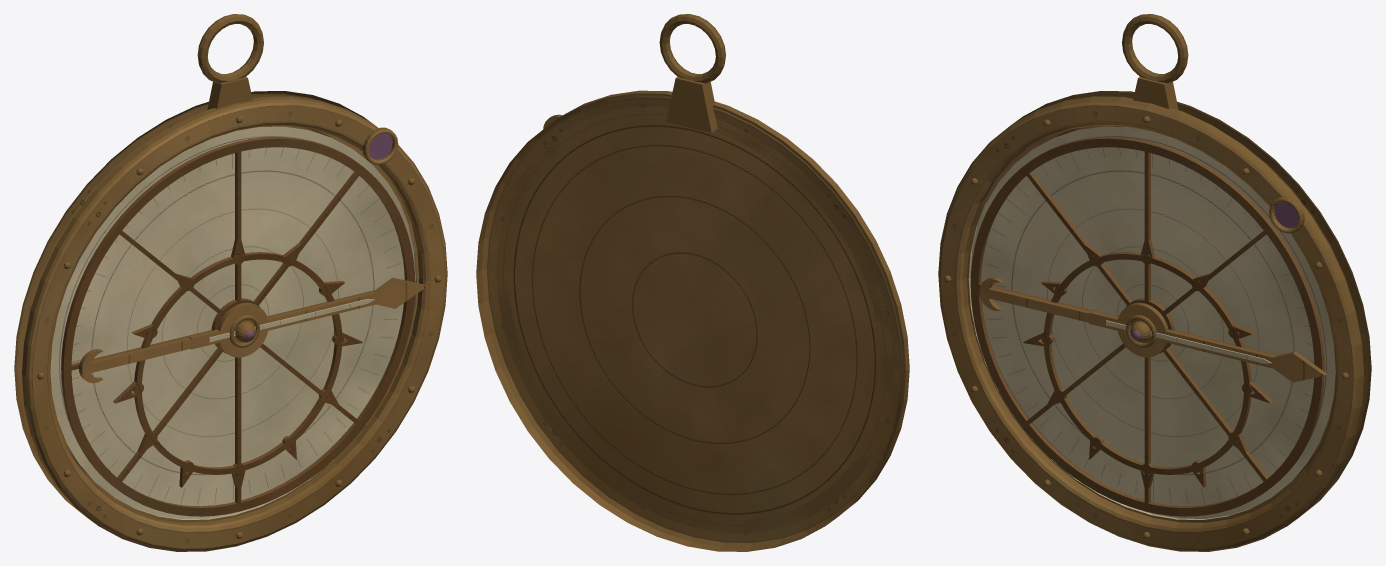
File: astrolabe-lite-v2.glb
3 views of the same model, side by side, from view 1: azimuth 30°, elevation 25°; view 2: azimuth 150°, elevation 25°; view 3: azimuth 330°, elevation 25° (orthographic).
Parts seen in each view (by area): view 1: calendar_disc, outer_rim, rete, body, time_pointer_geom, suspension_ring, time_pointer_inlay, center_cap_geom, moon_seat_geom; view 2: body, outer_rim, suspension_ring; view 3: calendar_disc, outer_rim, rete, body, time_pointer_geom, suspension_ring, time_pointer_inlay, center_cap_geom, moon_seat_geom.
Part boxes in pixels (x1=…): calendar_disc: x1=50, y1=126, x2=417, y2=519; outer_rim: x1=22, y1=96, x2=447, y2=551; rete: x1=61, y1=137, x2=415, y2=516; body: x1=14, y1=91, x2=419, y2=522; time_pointer_geom: x1=79, y1=277, x2=426, y2=383; suspension_ring: x1=197, y1=14, x2=263, y2=109; time_pointer_inlay: x1=209, y1=299, x2=374, y2=342; center_cap_geom: x1=229, y1=315, x2=259, y2=347; moon_seat_geom: x1=362, y1=127, x2=398, y2=164; body: x1=476, y1=95, x2=903, y2=551; outer_rim: x1=497, y1=90, x2=909, y2=533; suspension_ring: x1=659, y1=14, x2=725, y2=132; calendar_disc: x1=968, y1=126, x2=1335, y2=519; outer_rim: x1=938, y1=96, x2=1363, y2=551; rete: x1=970, y1=137, x2=1324, y2=516; body: x1=966, y1=91, x2=1371, y2=522; time_pointer_geom: x1=979, y1=277, x2=1326, y2=382; suspension_ring: x1=1122, y1=14, x2=1188, y2=109; time_pointer_inlay: x1=1106, y1=320, x2=1271, y2=363; center_cap_geom: x1=1126, y1=315, x2=1156, y2=347; moon_seat_geom: x1=1269, y1=196, x2=1304, y2=233.
Size of the model in its own units: 0.24 by 0.2864 by 0.028.
4 materials, 3 textured.
